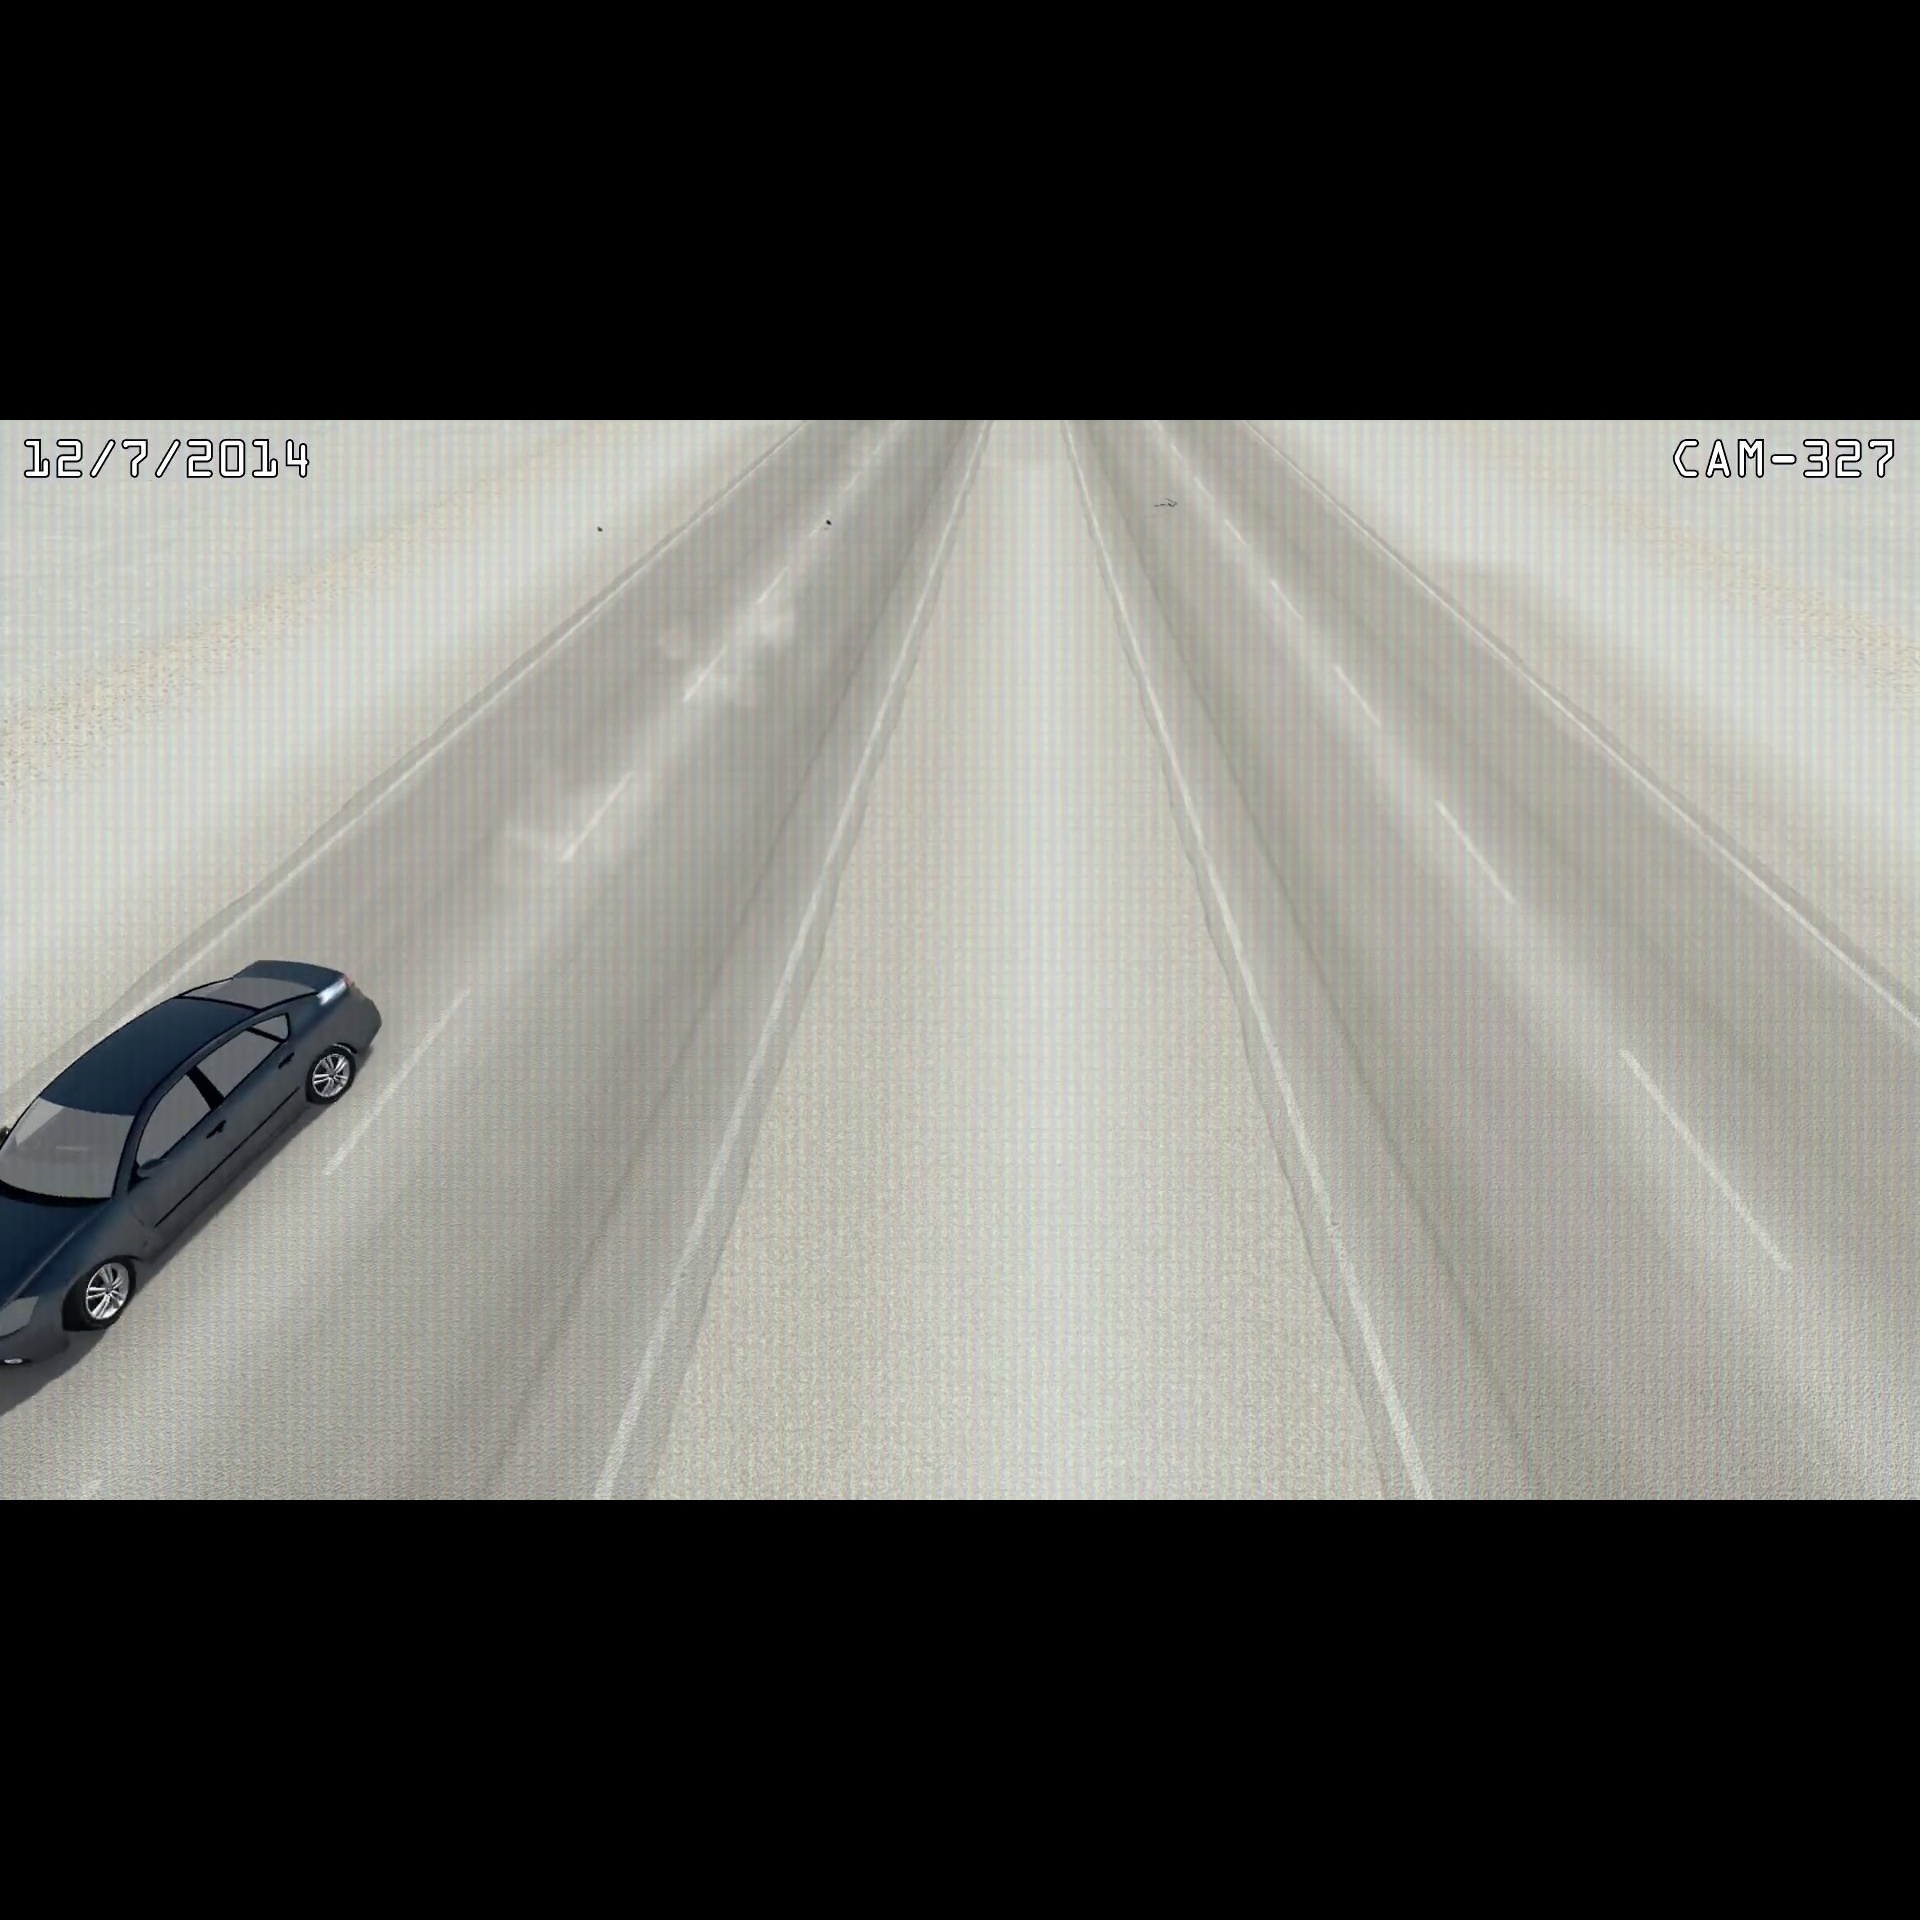vehicle: (2, 951, 389, 1378)
